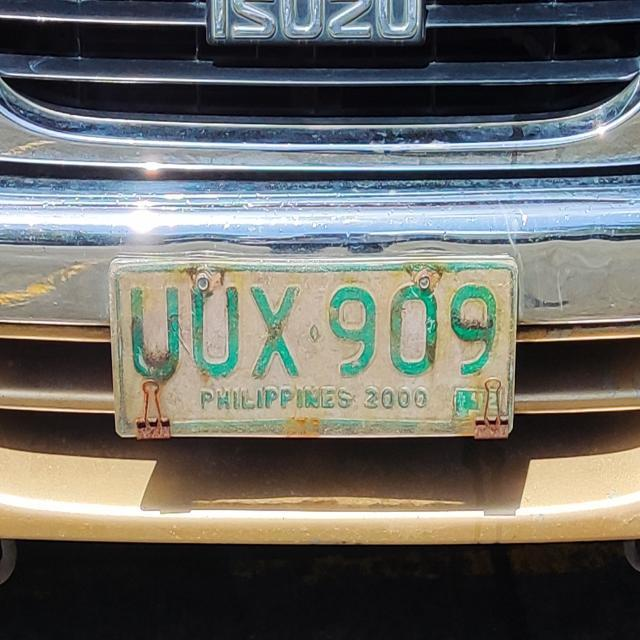LicensePlate: (93, 246, 525, 444)
